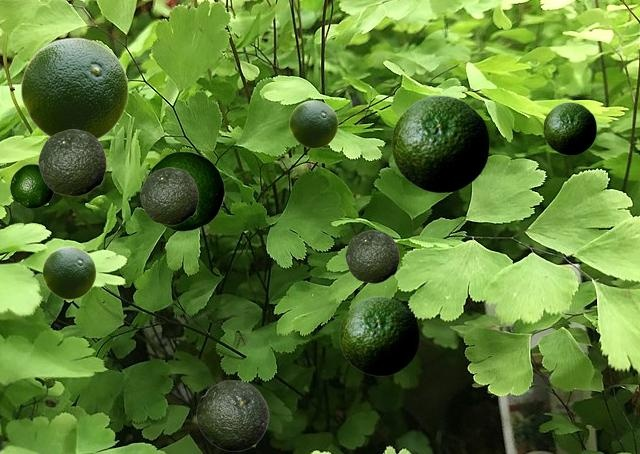calamansi: (20, 37, 128, 139), (391, 95, 488, 192), (339, 296, 418, 375), (146, 151, 224, 230), (196, 380, 268, 450), (38, 129, 105, 195), (140, 167, 197, 224), (42, 246, 95, 298), (345, 230, 398, 282), (543, 102, 595, 154), (289, 100, 337, 147), (10, 164, 54, 207)
